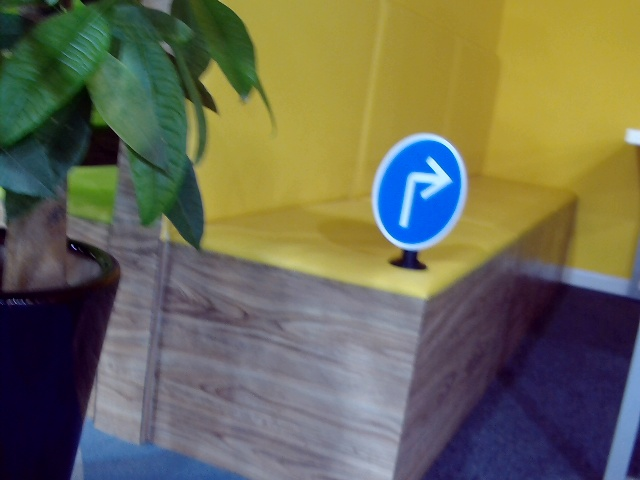turn_right: (397, 157, 451, 226)
